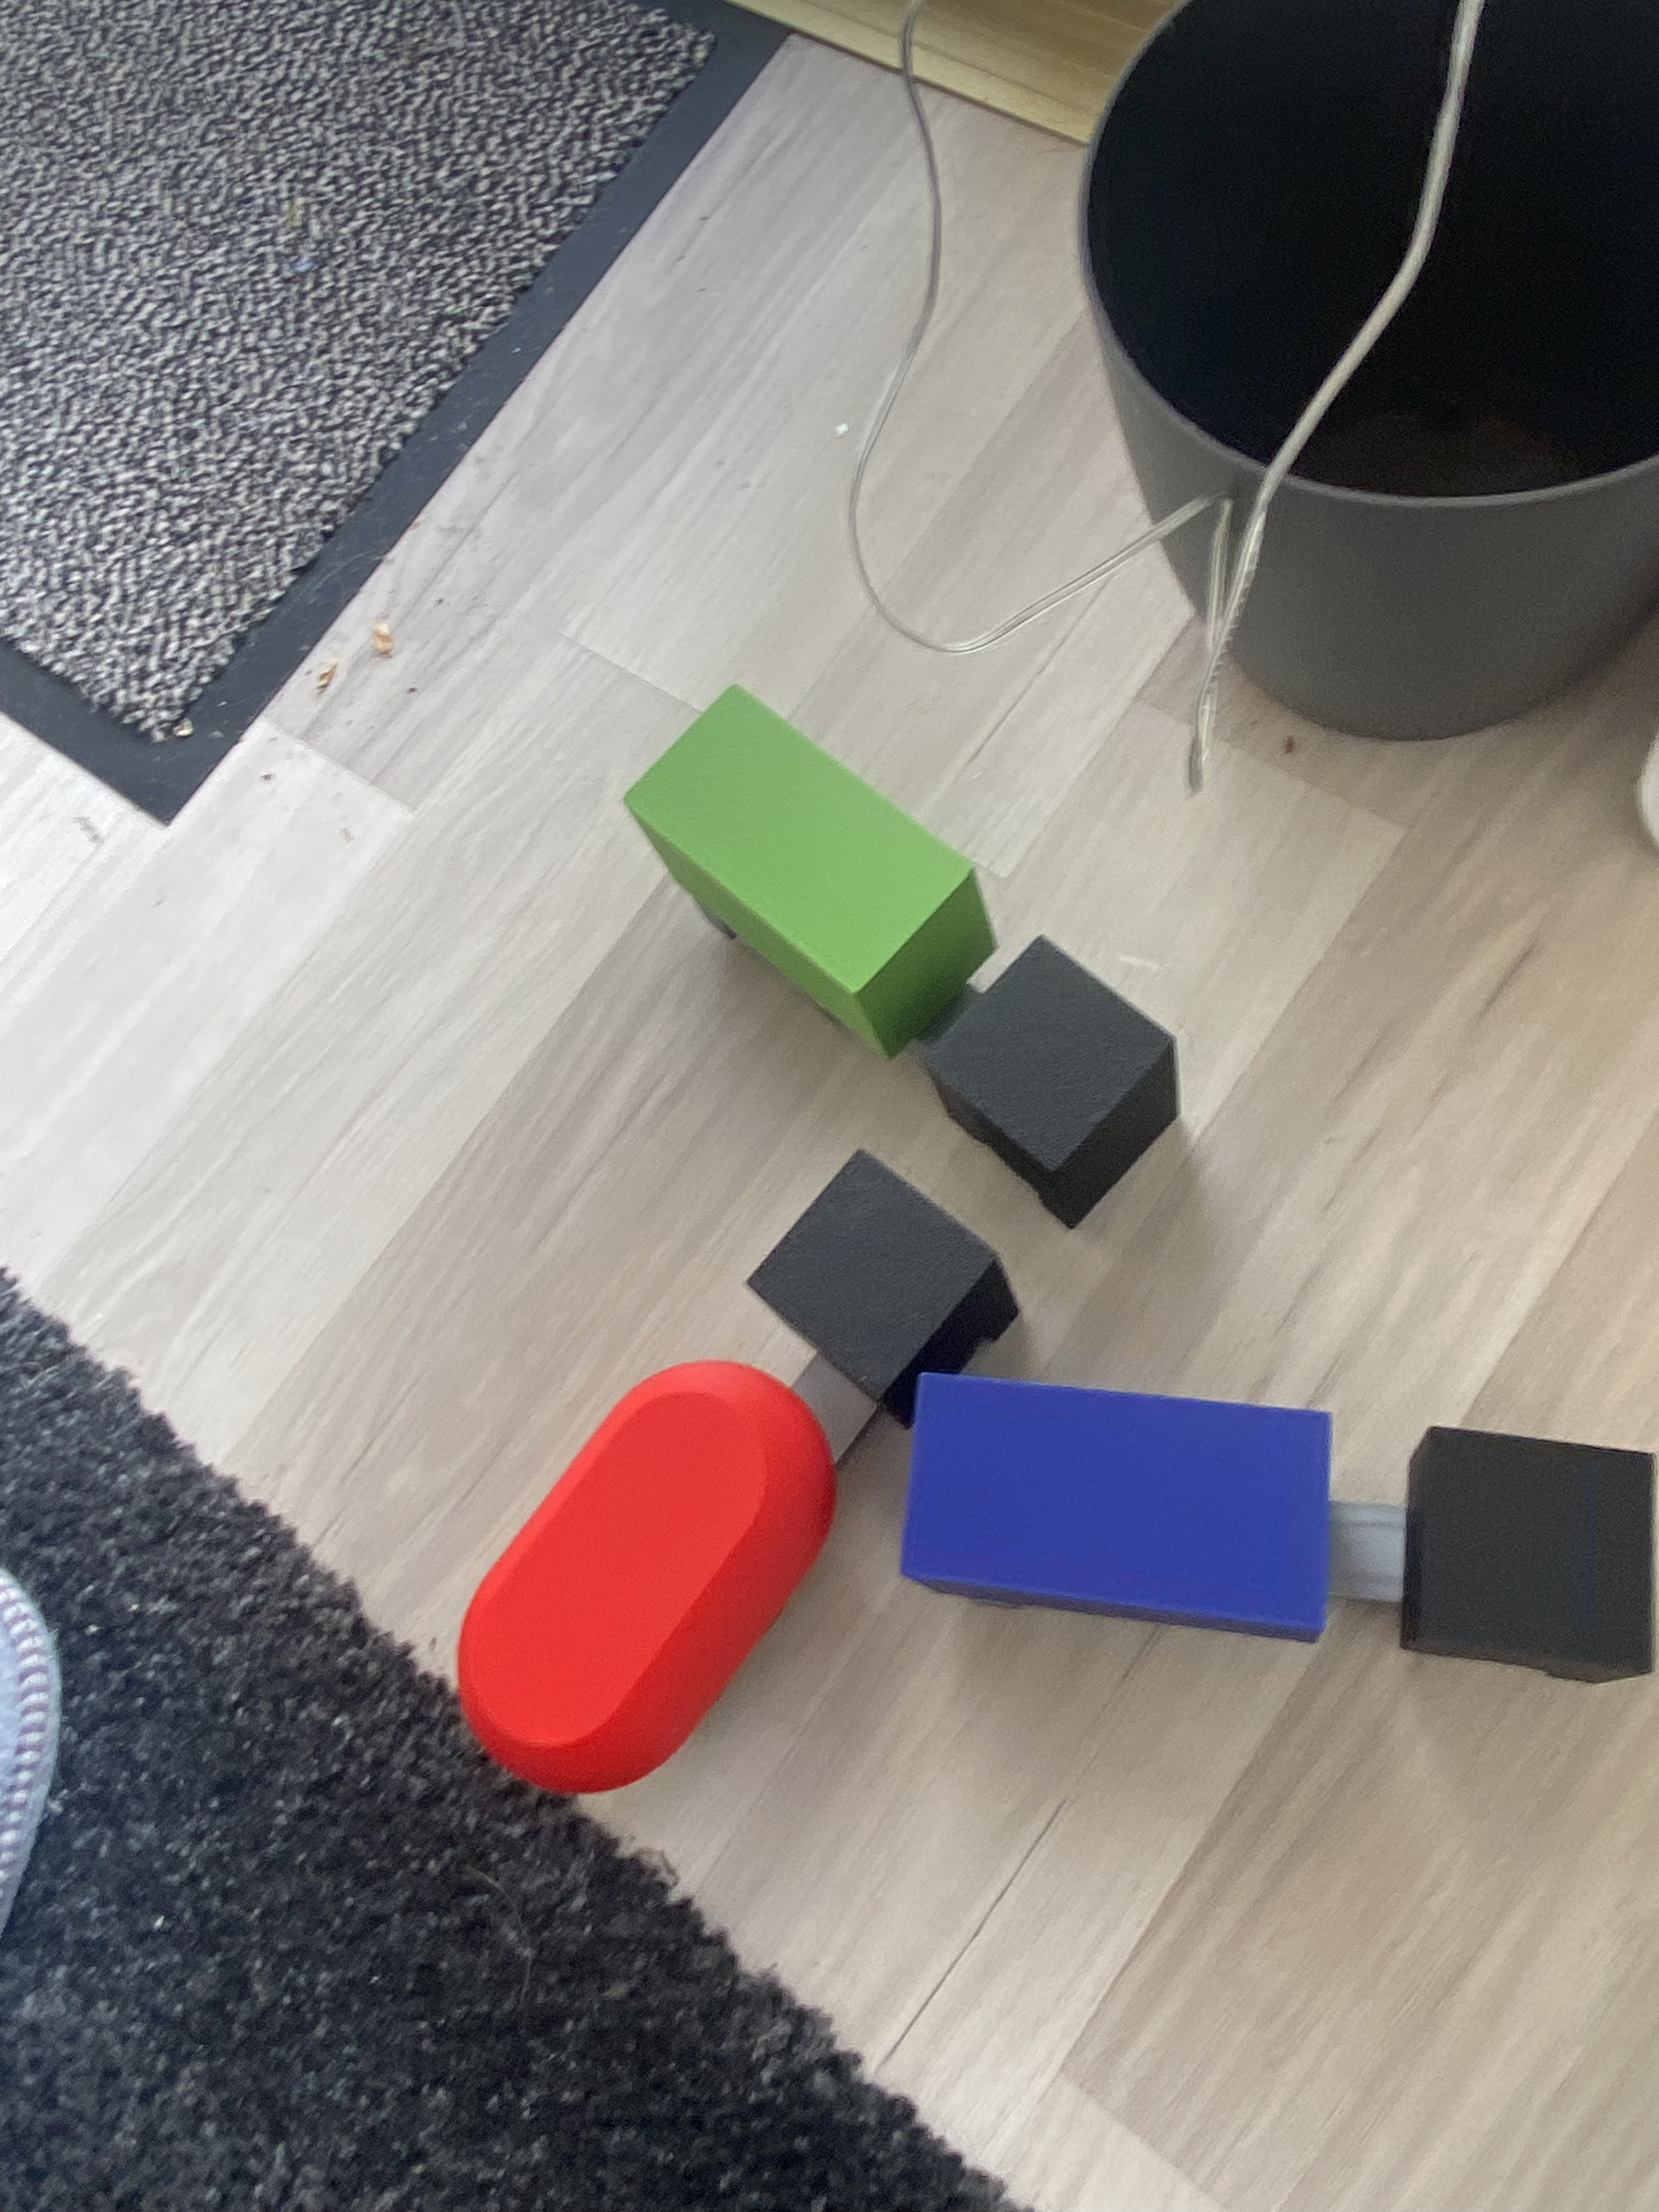blue_truck: (1140, 1162, 1424, 1923)
green_truck: (587, 836, 1244, 1055)
red_truck: (584, 1127, 871, 1848)
